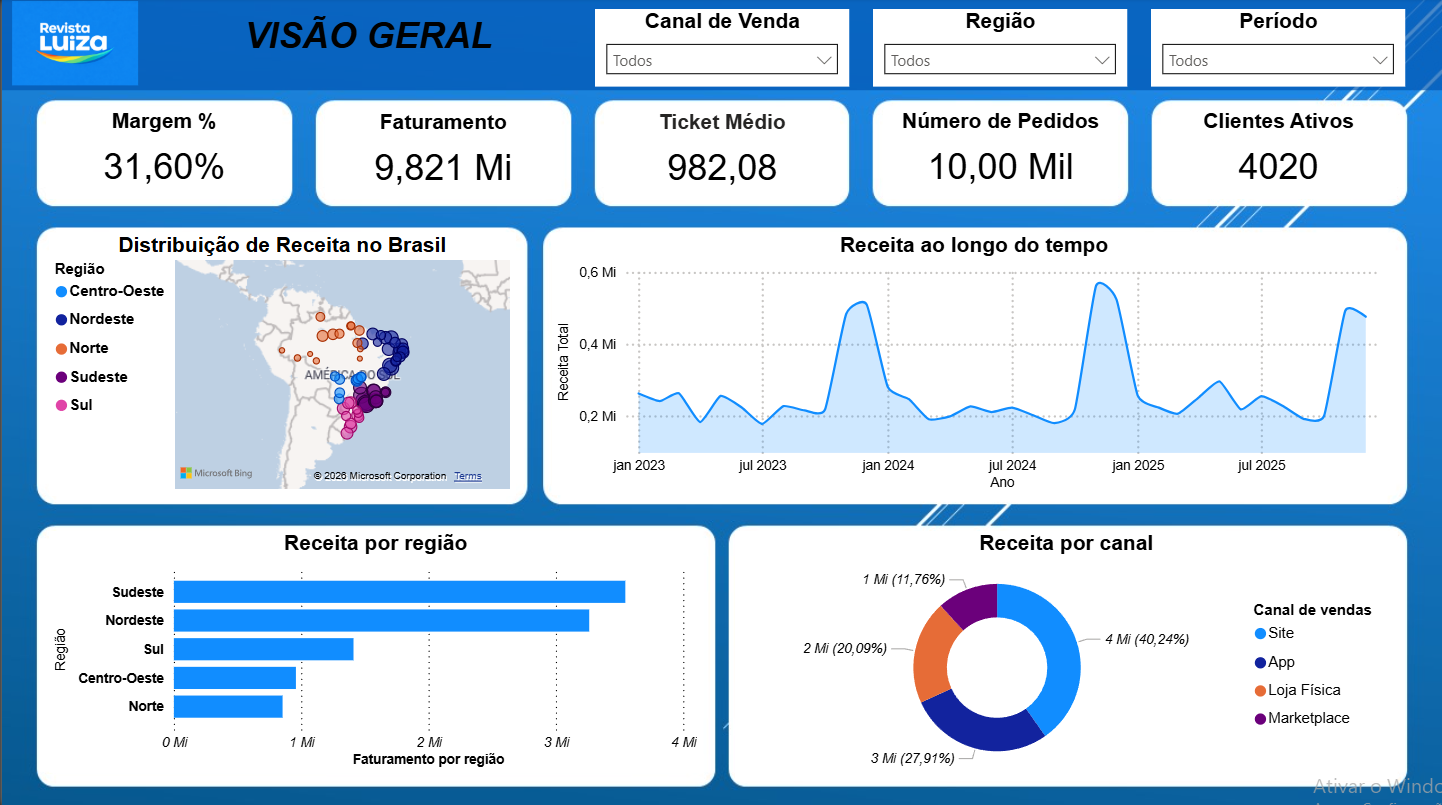

Layout of this report page (visuals, bound fields, positions):
{"tool":"powerbi","page":{"name":"VISÃO GERAL","canvas":[1280,720],"ordinal":0},"visuals":[{"type":"shape","box":[0,0,1280,82.2],"z":500},{"type":"lineChart","title":"Receita ao longo do tempo","fields":{"Category":["pedidos.data_pedido.Variation.Hierarquia de datas.Ano","pedidos.data_pedido.Variation.Hierarquia de datas.Trimestre","pedidos.data_pedido.Variation.Hierarquia de datas.Mês"],"Y":["pedidos.Receita Total"]},"box":[489,209.1,750.3,233.5],"z":1000},{"type":"donutChart","title":"Receita por canal","fields":{"Category":["pedidos.canal_venda"],"Y":["Sum(pedidos.valor_bruto)"]},"box":[651.6,473.9,588.9,221.9],"z":2000},{"type":"map","title":"Distribuição de Receita no Brasil","fields":{"Category":["clientes.cidade"],"Series":["clientes.regiao"],"Size":["Sum(pedidos.valor_bruto)"]},"box":[41.8,209.1,414.7,233.5],"z":3000},{"type":"barChart","title":"Receita por região","fields":{"Category":["clientes.regiao"],"Y":["Sum(pedidos.valor_bruto)"]},"box":[41.8,473.9,580.8,214.9],"z":4000},{"type":"card","title":"Faturamento","fields":{"Values":["pedidos.Receita Total"]},"box":[287.5,99.6,210.2,79],"z":5000},{"type":"card","title":"Número de Pedidos","fields":{"Values":["pedidos.Total de Pedidos"]},"box":[783.4,99,209.1,80.1],"z":6000},{"type":"card","title":"Ticket Médio","fields":{"Values":["pedidos.Ticket Médio"]},"box":[535.5,99.3,210.2,80.1],"z":7000},{"type":"card","title":"Clientes Ativos","fields":{"Values":["pedidos.Clientes Ativos"]},"box":[1030.3,98.7,209.1,80.1],"z":8000},{"type":"slicer","title":"Período","fields":{"Values":["pedidos.data_pedido.Variation.Hierarquia de datas.Ano","pedidos.data_pedido.Variation.Hierarquia de datas.Mês"]},"box":[1021.6,10,226.5,68.8],"z":9000},{"type":"card","title":"Margem %","fields":{"Values":["categorias.Margem %"]},"box":[39.5,98.7,210.2,80.1],"z":10000},{"type":"image","box":[8,3,114.7,74.8],"z":11000},{"type":"slicer","title":"Região","fields":{"Values":["clientes.regiao"]},"box":[774.2,10,226.5,68.8],"z":12000},{"type":"slicer","title":"Canal de Venda","fields":{"Values":["pedidos.canal_venda"]},"box":[526.8,10,226.5,68.8],"z":13000},{"type":"textbox","box":[123.1,10.5,404.2,67.4],"z":14000}]}

Visuals, with their boxes in screenshot pixels (x1, y1, x2, y2), scaled from the page's 1280x720 canvas onto the 1442x805 screenshot:
shape: 0, 0, 1441, 92
"Receita ao longo do tempo" lineChart: 551, 234, 1396, 495
"Receita por canal" donutChart: 734, 530, 1398, 778
"Distribuição de Receita no Brasil" map: 47, 234, 514, 495
"Receita por região" barChart: 47, 530, 701, 770
"Faturamento" card: 324, 111, 561, 200
"Número de Pedidos" card: 883, 111, 1118, 200
"Ticket Médio" card: 603, 111, 840, 201
"Clientes Ativos" card: 1161, 110, 1396, 200
"Período" slicer: 1151, 11, 1406, 88
"Margem %" card: 44, 110, 281, 200
image: 9, 3, 138, 87
"Região" slicer: 872, 11, 1127, 88
"Canal de Venda" slicer: 593, 11, 849, 88
textbox: 139, 12, 594, 87
